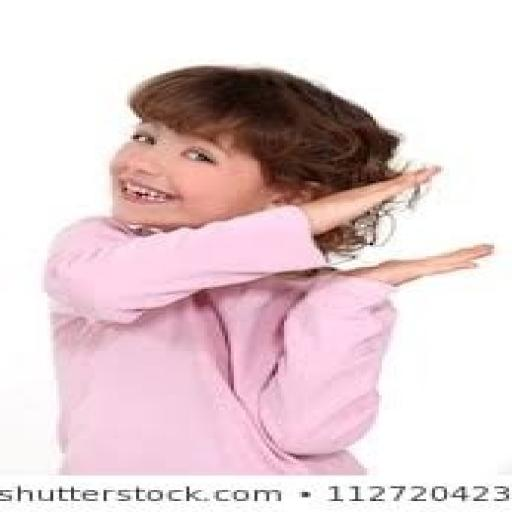clapping: (38, 62, 494, 476)
